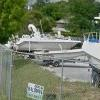Boat: (13, 24, 81, 61)
